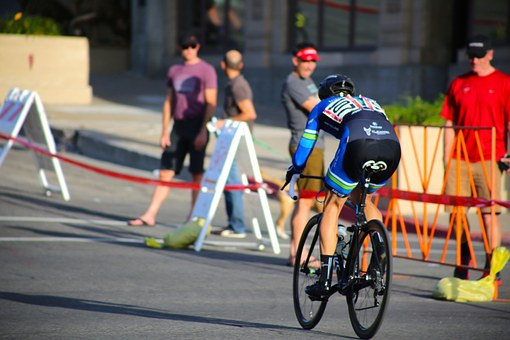bikerider: (279, 65, 403, 340)
